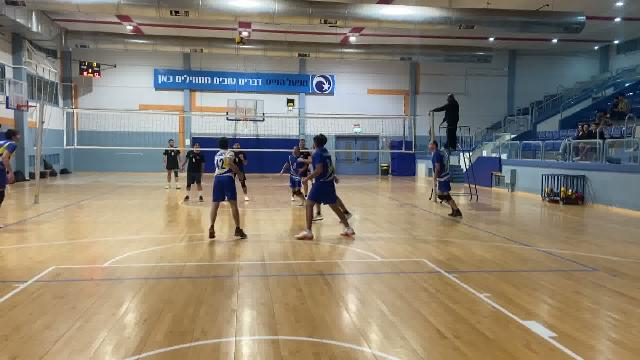ball: (235, 33, 246, 48)
